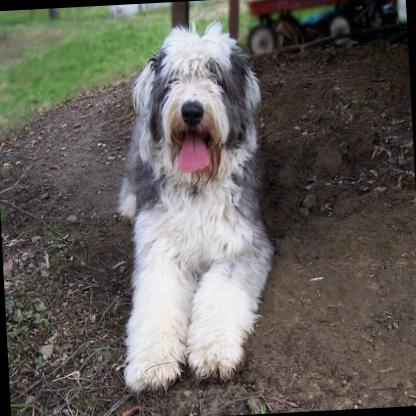Old_English_sheepdog: (104, 14, 283, 393)
